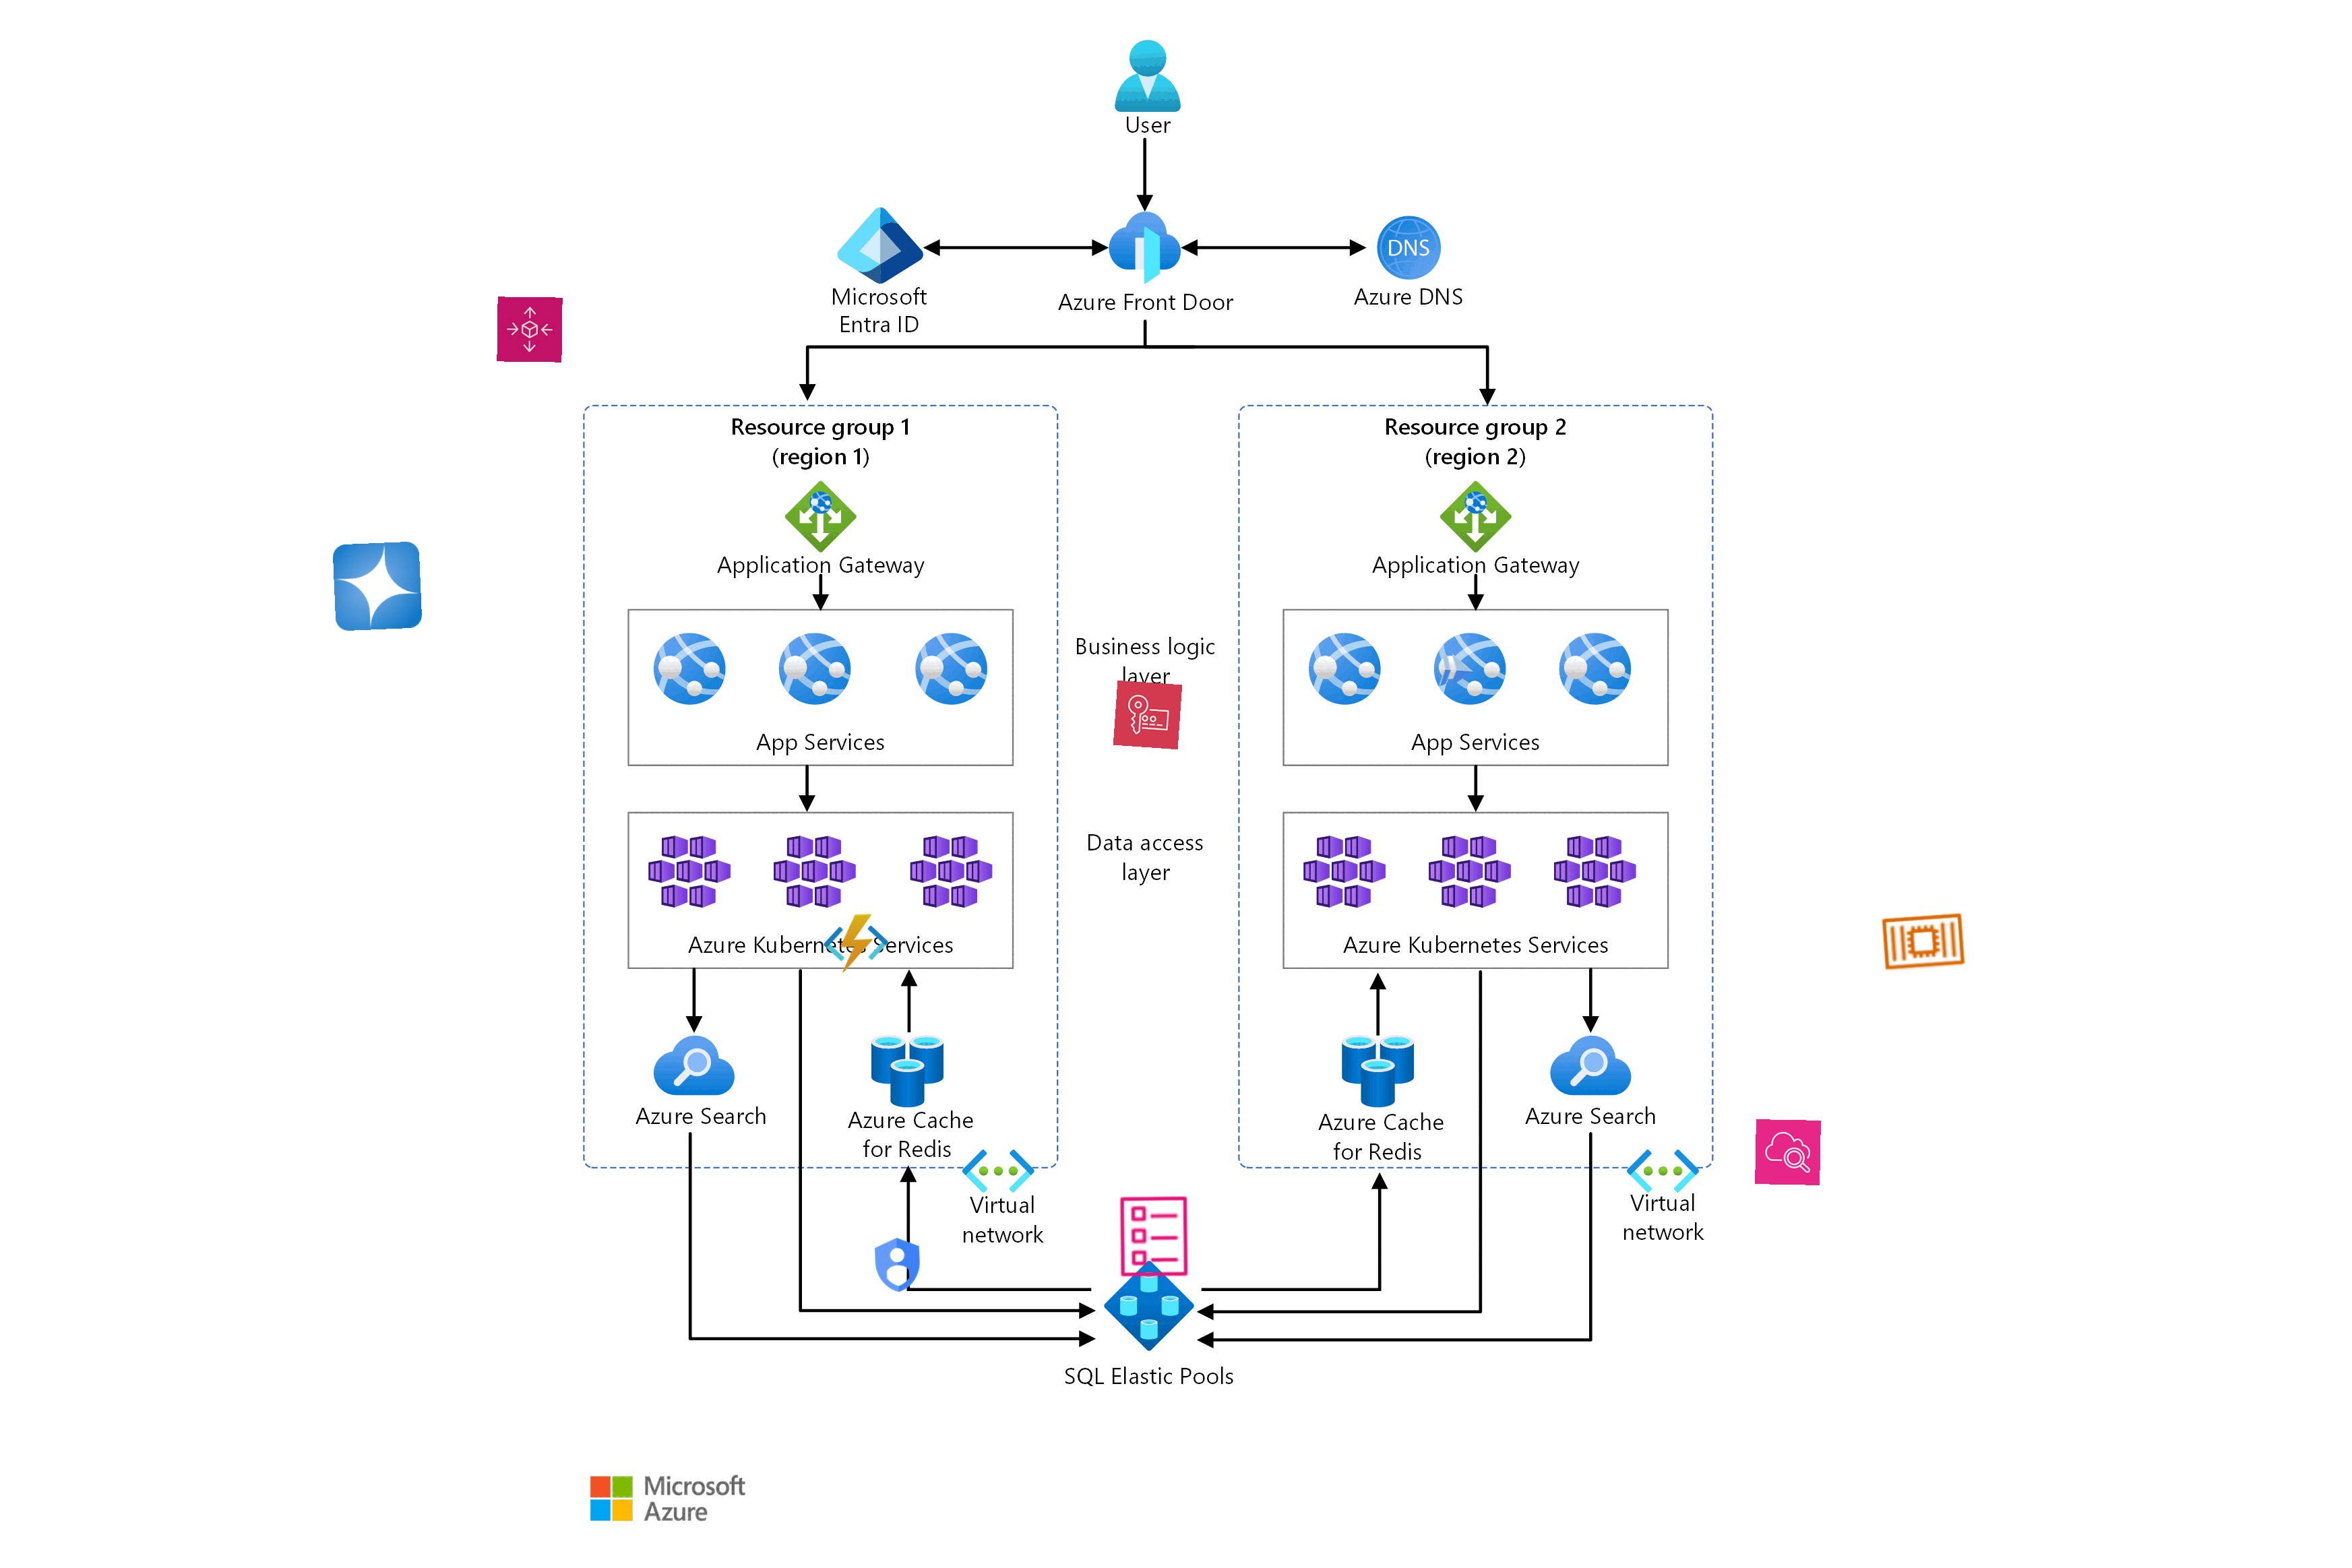aws_amazon_cloudwatch: (1755, 1120, 1822, 1185)
aws_auto_scaling: (497, 296, 563, 362)
aws_cloudformation_template: (1109, 1194, 1197, 1281)
aws_elastic_container_service_container_2: (1878, 894, 1971, 987)
aws_key_management_service: (1113, 681, 1183, 751)
azure_function_apps: (822, 910, 889, 977)
azure_openai: (332, 541, 422, 632)
gcp_cloud_run: (1433, 647, 1480, 695)
gcp_identity_and_access_management: (863, 1230, 933, 1298)
